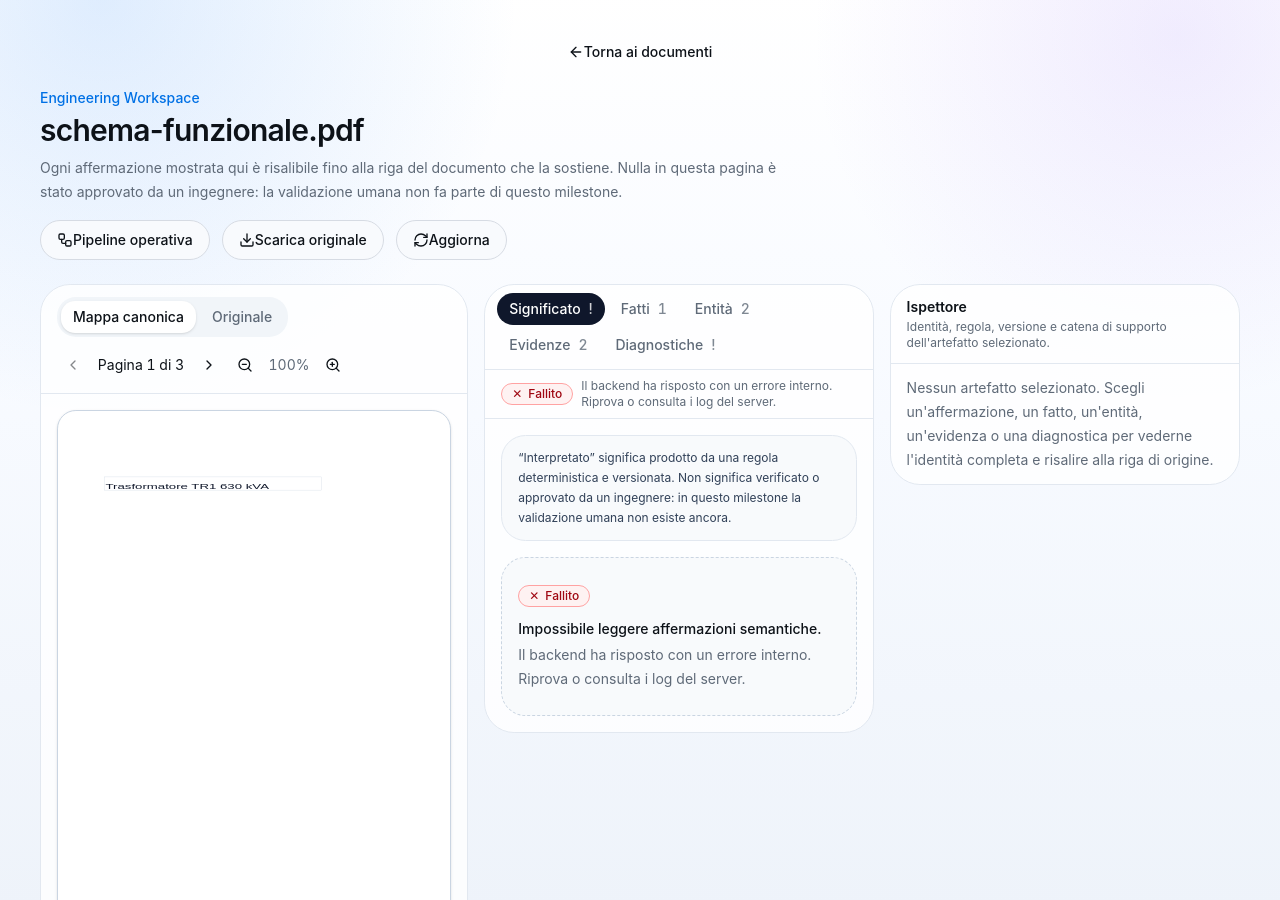
declined, empty, unrun and failed › leaves the other stages inspectable when one read fails
Expected: the heading "schema-funzionale.pdf" is shown, [40,112,364,148]
Click the tab "Evidenze 2". click: click(548, 345)
box: [497,329,600,361]
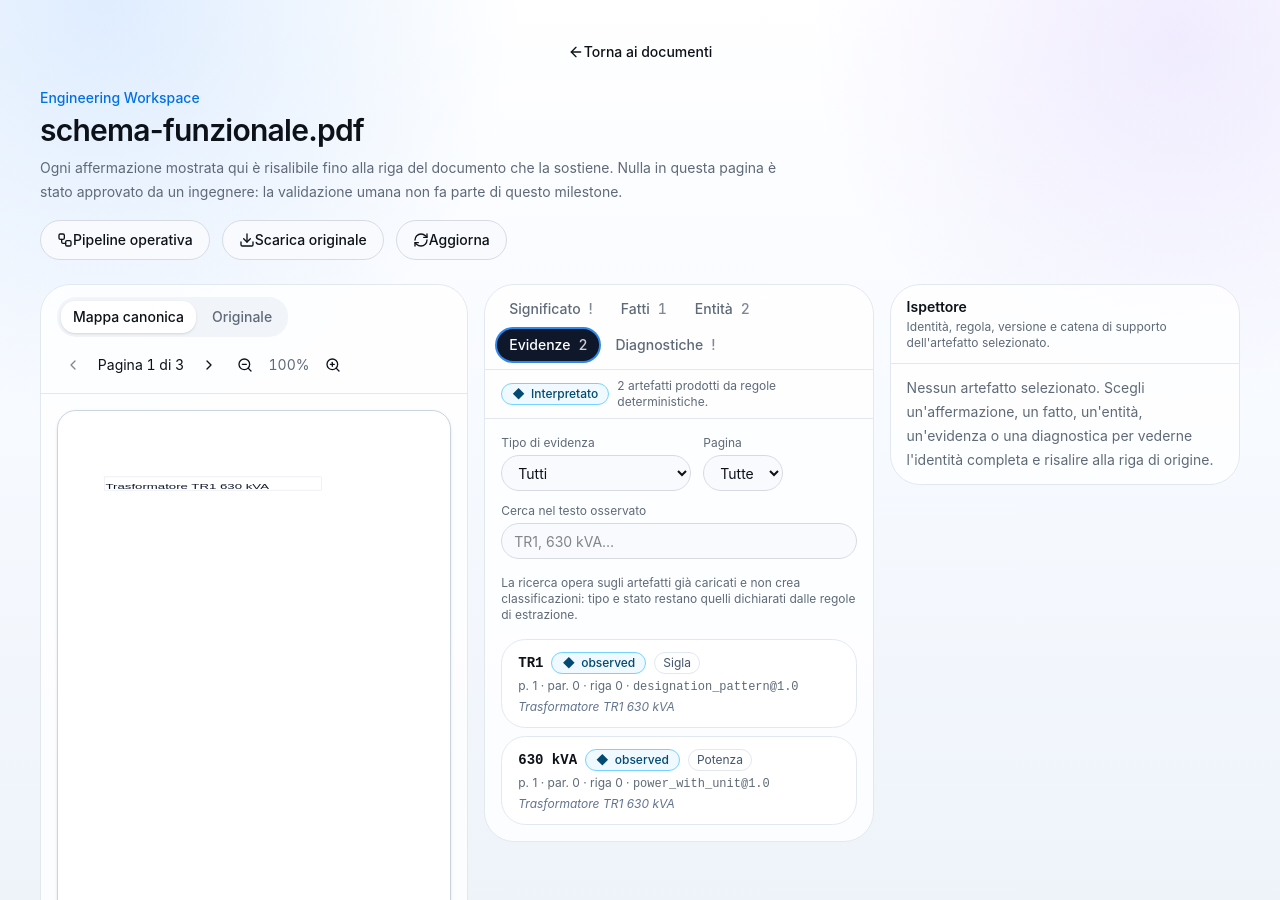
Expected: the button with aria-label "Evidenza TR1" is shown, [501,639,857,728]
